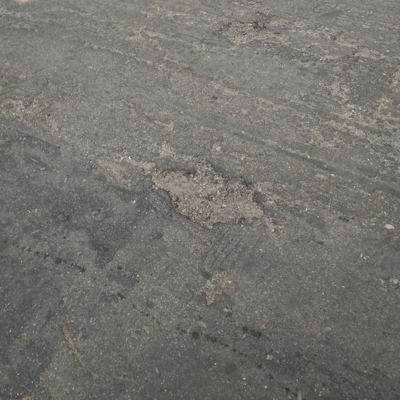pothole: (147, 161, 267, 232), (216, 21, 277, 47)
